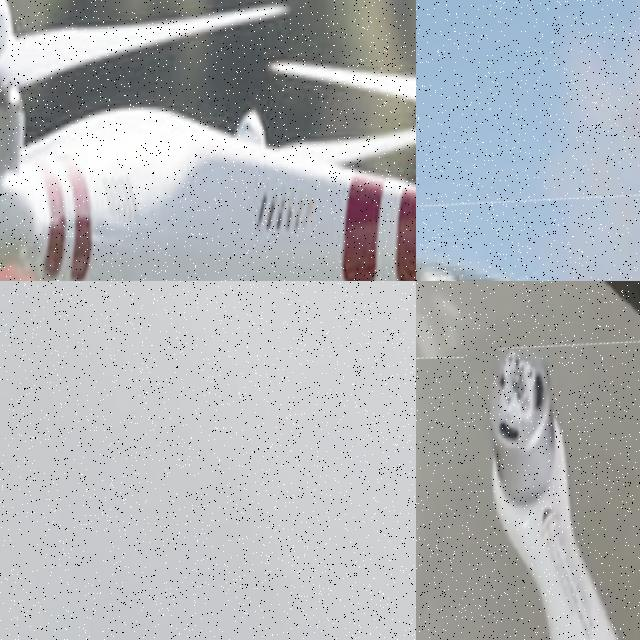drone: (0, 0, 416, 281), (416, 281, 640, 640), (416, 108, 640, 281)
